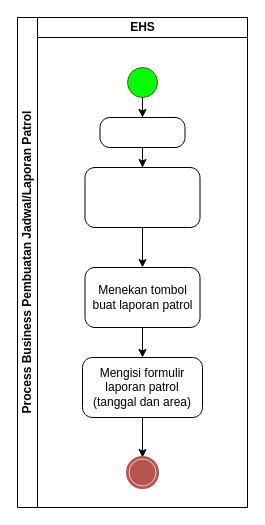
Image size: 265x525. Some labels were removed from this diagram. Here are the shapes that lost their labels. From the top down, the centre of each, then its label:
the point at 142,132: Login
the point at 142,197: Membuka halaman Laporan Patrol
